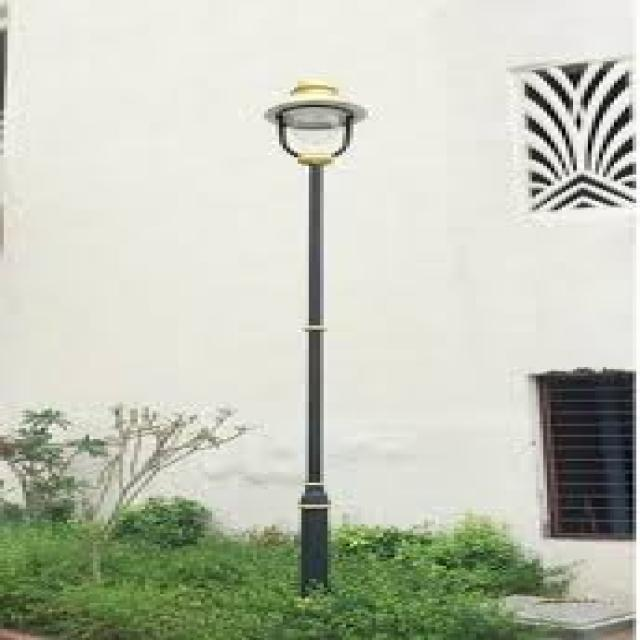Street Light: (264, 81, 372, 601)
